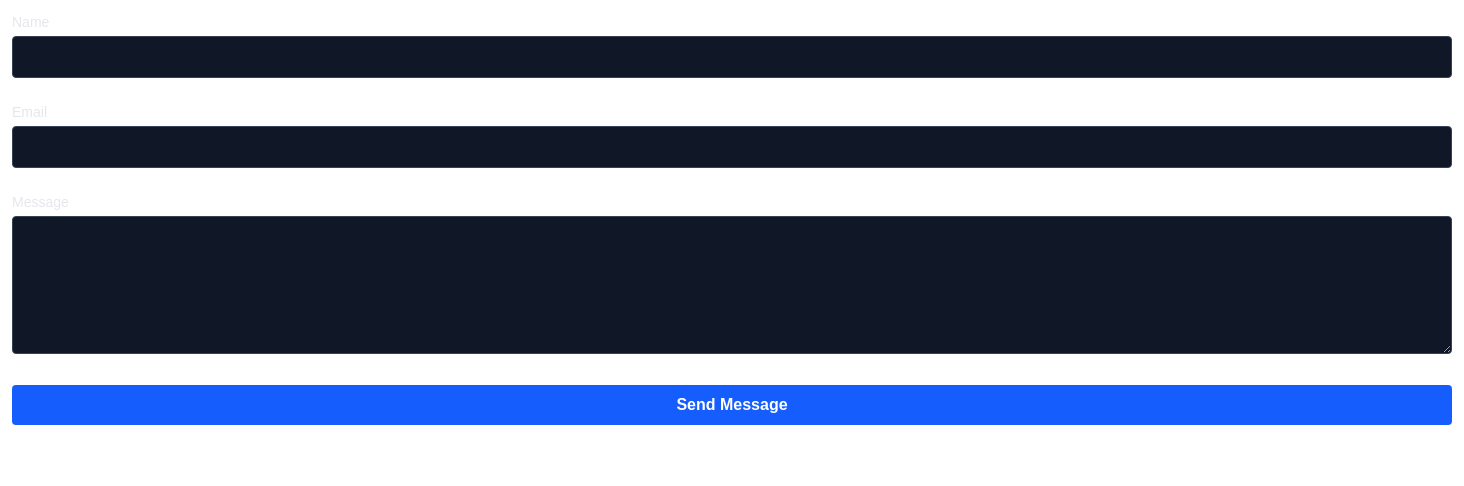
Test: ContactForm › shows error message when API returns error status
# Fill out form
Type "John Doe" into the field labelled "Name" at [732, 57], box [12, 36, 1452, 78]
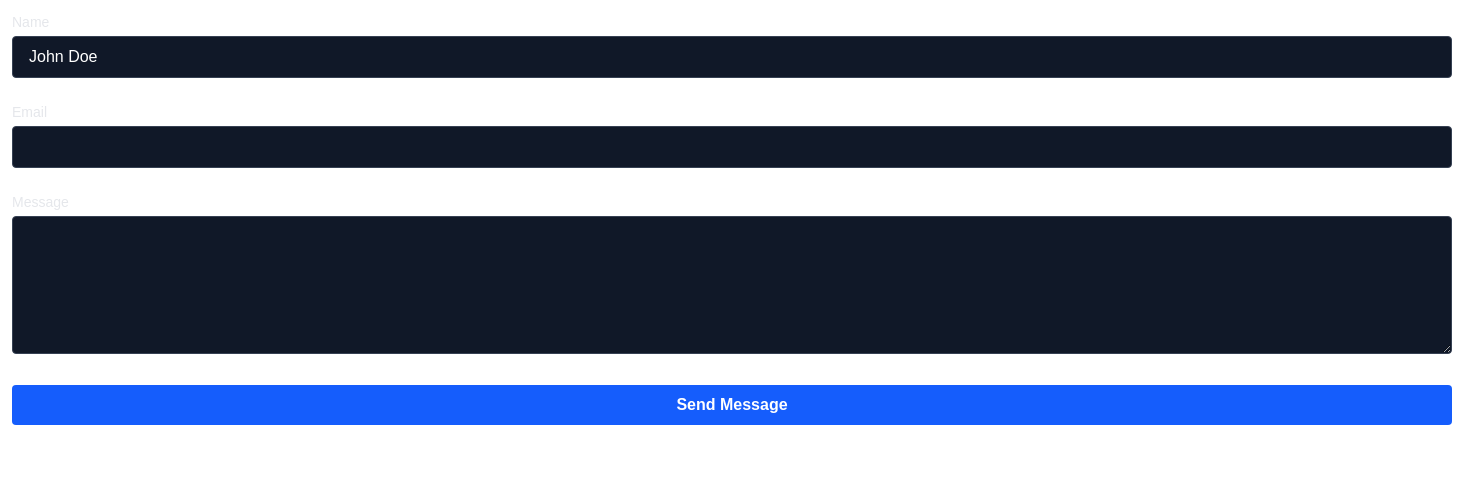
Type "john@example.com" into the field labelled "Email" at [732, 147], box [12, 126, 1452, 168]
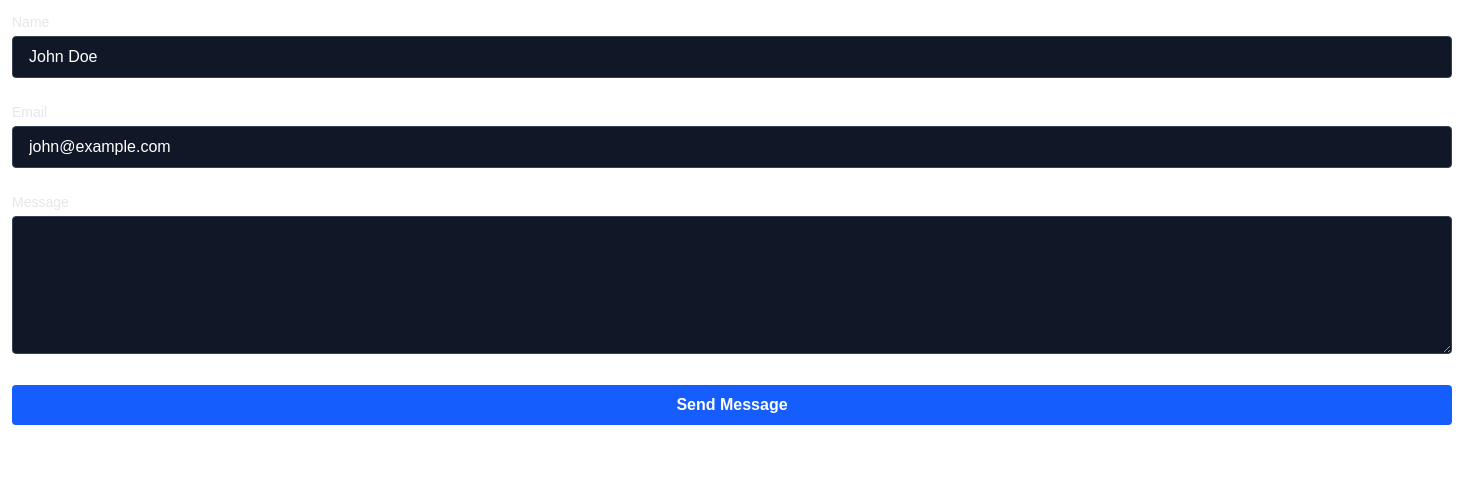
Type "Hello from John" into the text box labelled "Message" at [732, 285], box [12, 216, 1452, 354]
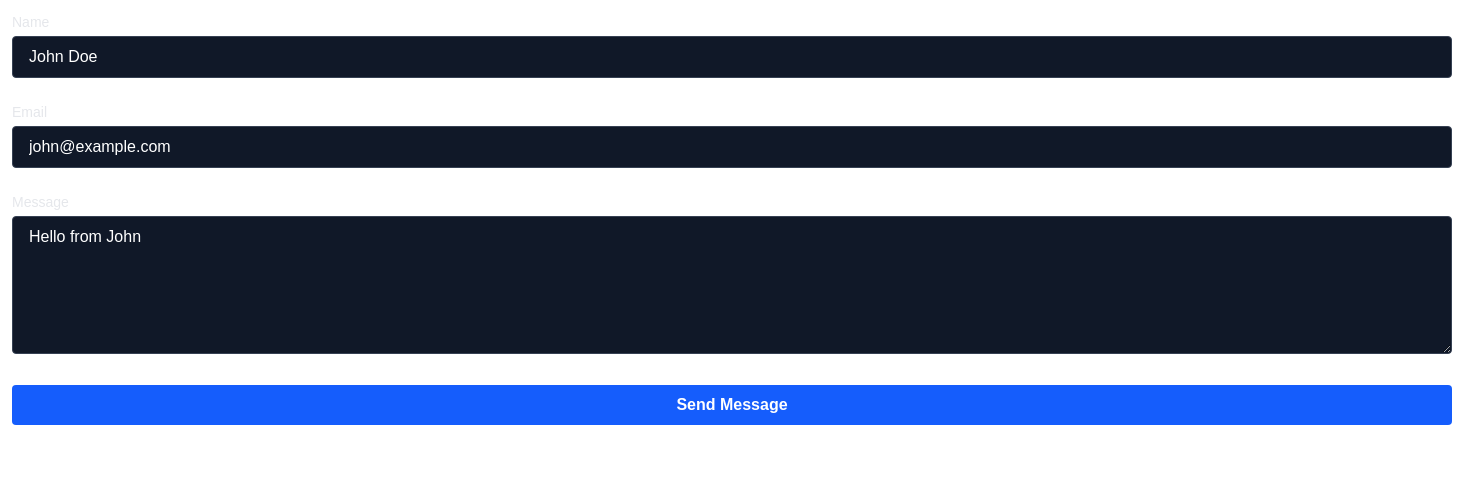
# Submit form
Click the button "Send Message" at [732, 405], box [12, 385, 1452, 425]
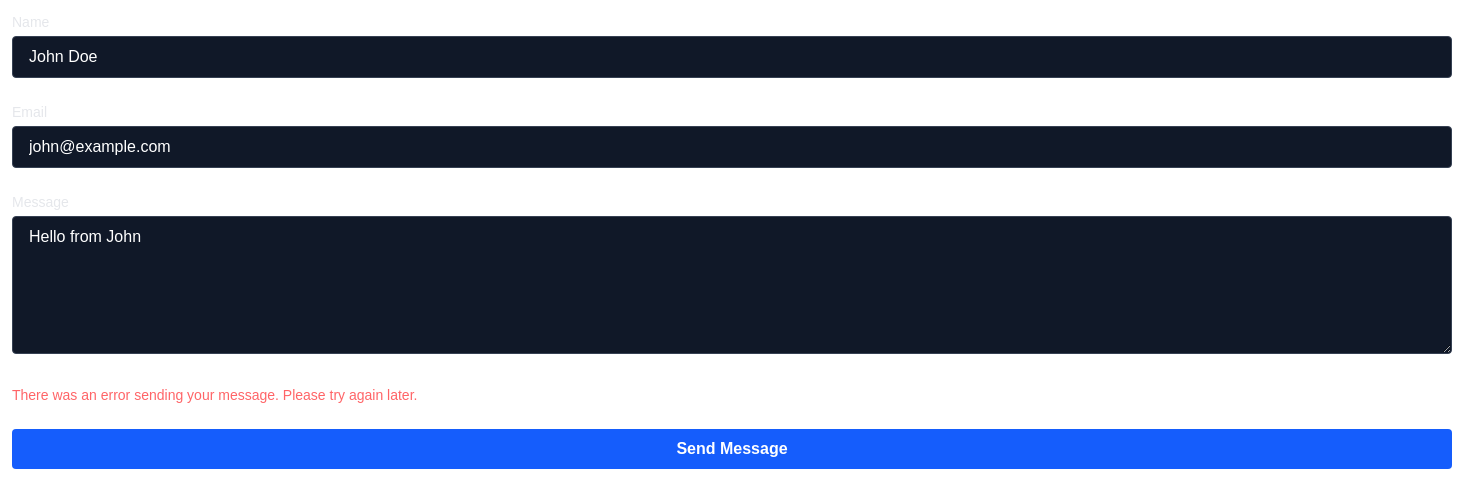
Now the text "There was an error sending your message. Please try again later." is shown, box [12, 387, 417, 403]
